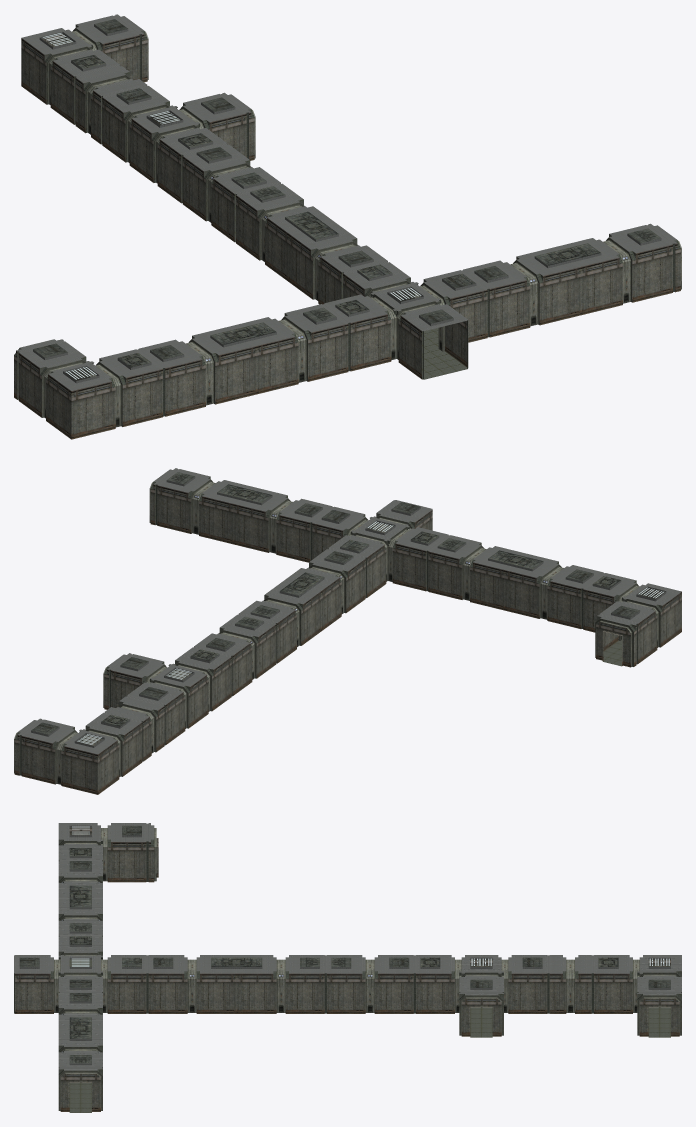
The model's file is poi_all_impl_bunker_crimelord_retreat_s01_r32_hallway10_mesh_r32.fbx.
3 renders of one model, top to bottom at view 1: azimuth 30°, elevation 25°; view 2: azimuth 150°, elevation 25°; view 3: azimuth 270°, elevation 25°, orthographic. The views are drawn at different scales.
Parts seen in each view (by area): view 1: mesh_node; view 2: mesh_node; view 3: mesh_node.
Part boxes in pixels (x1,y1,x2,y2): mesh_node: [14, 14, 681, 439]; mesh_node: [14, 468, 681, 794]; mesh_node: [14, 823, 681, 1112].
Bounding box in the file's own units: 53 × 4.2 × 60.
